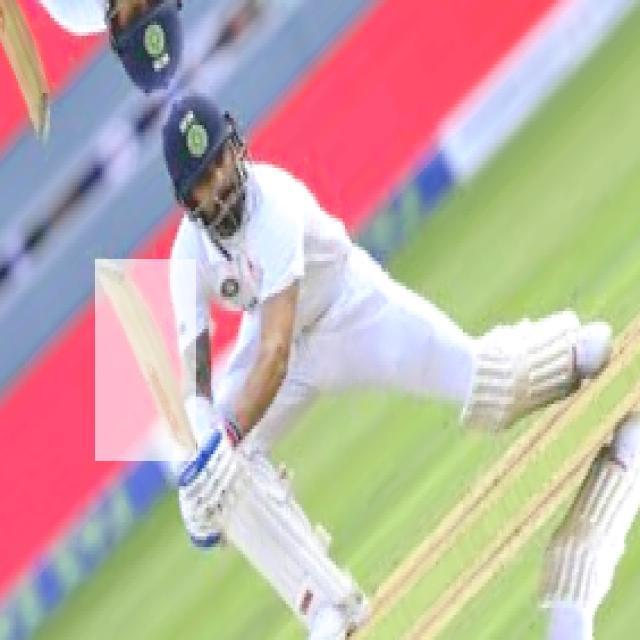bat: (95, 258, 200, 459)
toe: (92, 258, 134, 279)
